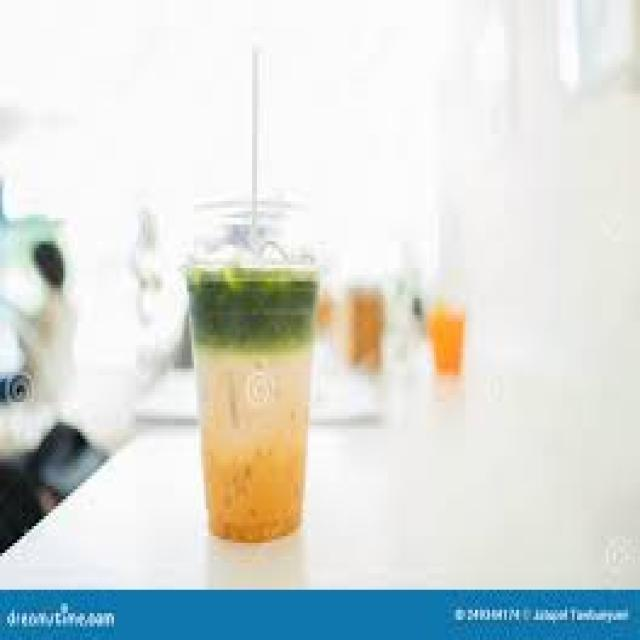bottle: (188, 268, 316, 540)
